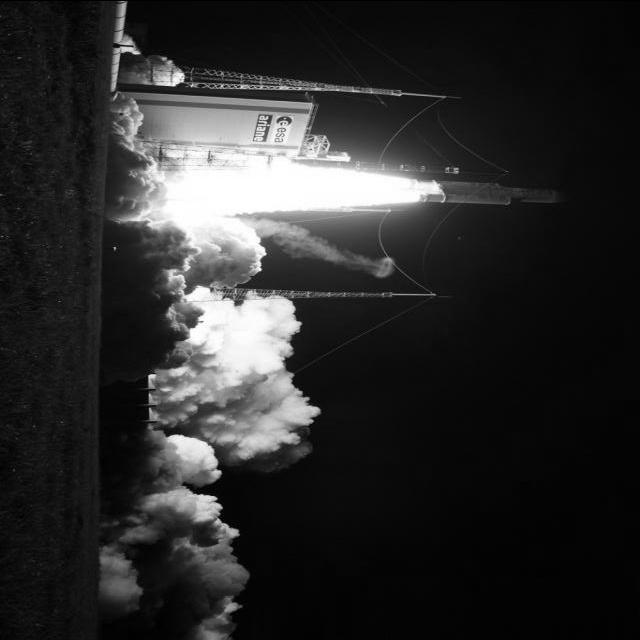Missile: (413, 177, 572, 204)
